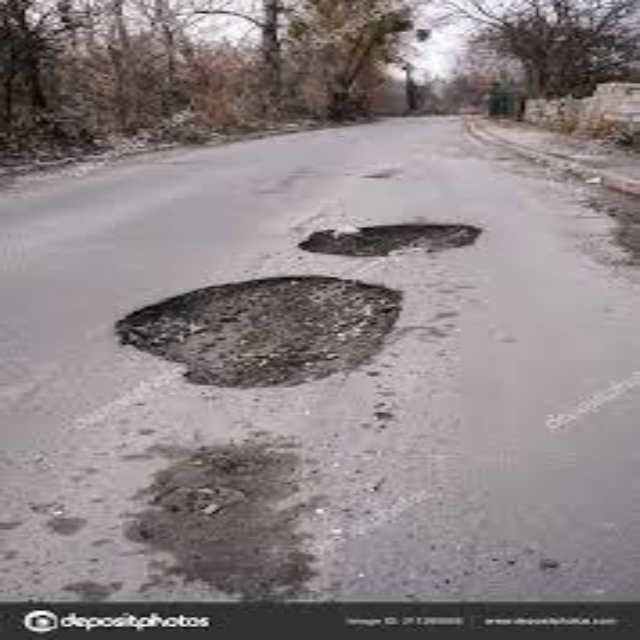pothole: (115, 277, 403, 388), (306, 223, 482, 257)
